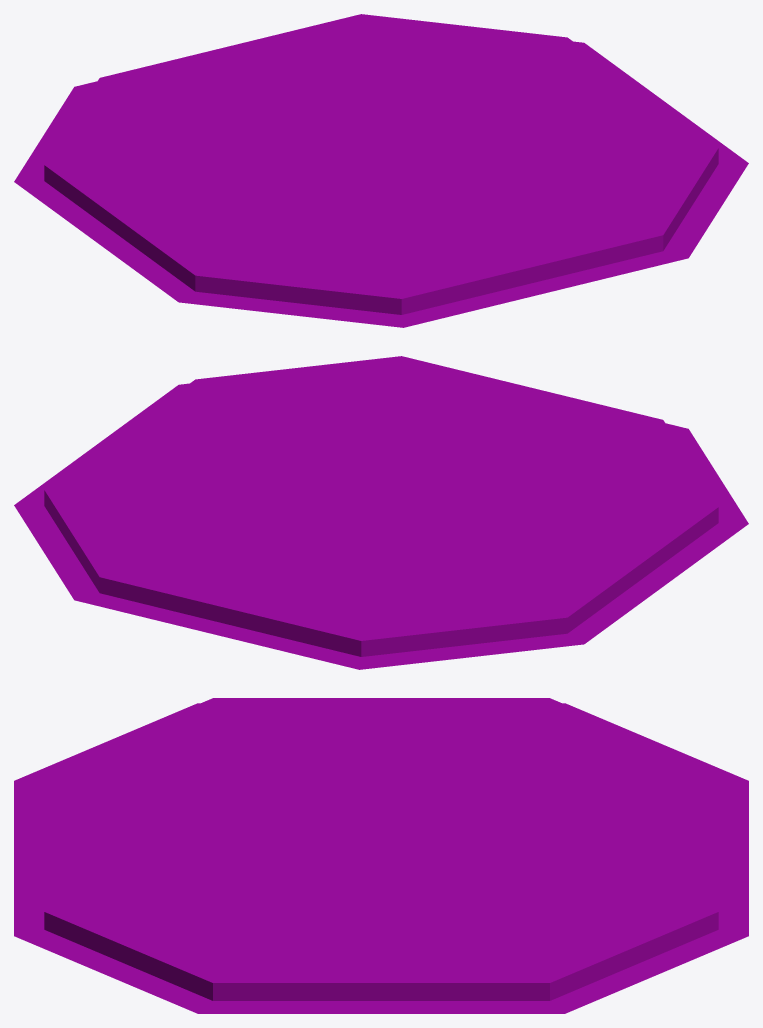
Rendered from Entrance_Floor.fbx.
3 renders of one model, top to bottom at view 1: azimuth 30°, elevation 25°; view 2: azimuth 150°, elevation 25°; view 3: azimuth 270°, elevation 25°, orthographic. The views are drawn at different scales.
Parts seen in each view (by area): view 1: Floor; view 2: Floor; view 3: Floor.
Boxes of the visible parts, x1=… form: Floor: x1=14, y1=14, x2=748, y2=327; Floor: x1=14, y1=356, x2=748, y2=669; Floor: x1=14, y1=698, x2=748, y2=1013.
Bounding box in the file's own units: 0.0769 × 0.00207 × 0.0769.
